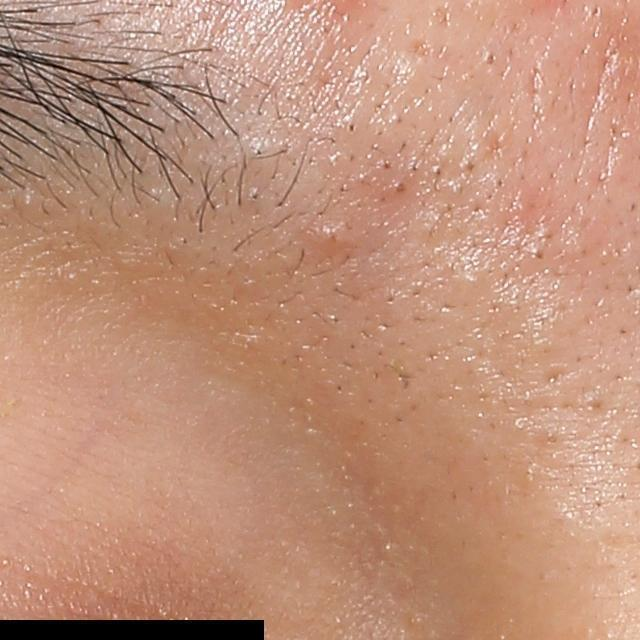comedo: (18, 193, 38, 211), (391, 180, 407, 197)
